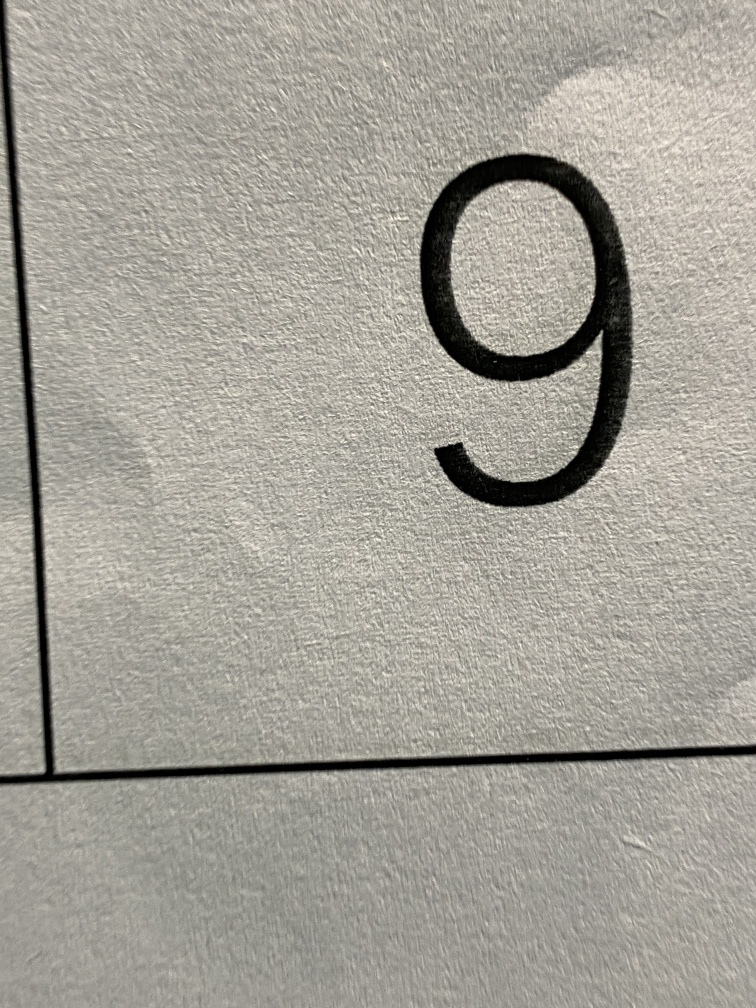nine: (346, 105, 692, 587)
